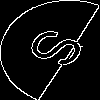S: (24, 25, 98, 76)
